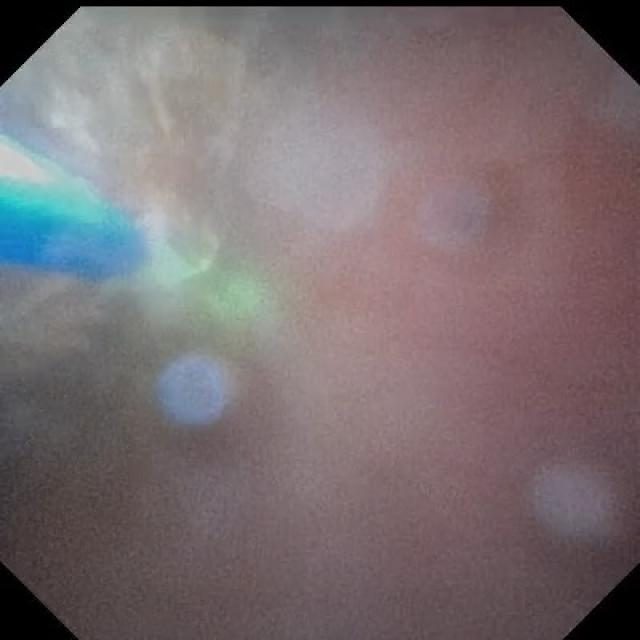laser-fibre: (146, 240, 198, 286)
laser_dot: (221, 274, 262, 317)
stone-new: (10, 8, 251, 262), (0, 269, 99, 378)
